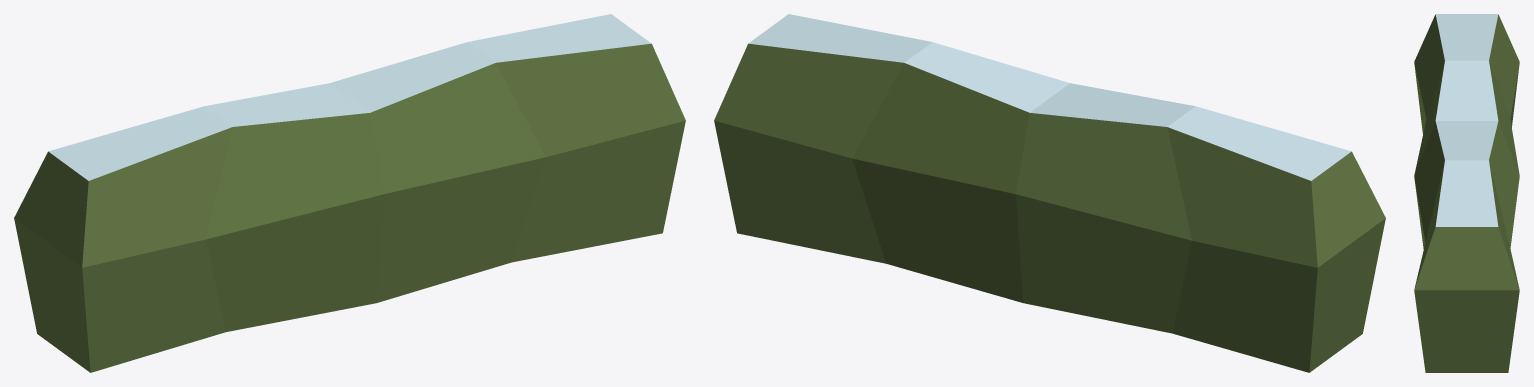
Rendered from SM_Env_Generic_Bush_04_Snow.glb.
The picture shows the model from 3 angles, left to right: view 1: azimuth 30°, elevation 25°; view 2: azimuth 150°, elevation 25°; view 3: azimuth 270°, elevation 25°; orthographic projection. The views are drawn at different scales.
Parts seen in each view (by area): view 1: SM_Env_Generic_Bush_04_Snow; view 2: SM_Env_Generic_Bush_04_Snow; view 3: SM_Env_Generic_Bush_04_Snow.
Boxes of the visible parts, bbox=[...] form: SM_Env_Generic_Bush_04_Snow: bbox=[14, 14, 685, 372]; SM_Env_Generic_Bush_04_Snow: bbox=[714, 14, 1385, 372]; SM_Env_Generic_Bush_04_Snow: bbox=[1414, 14, 1519, 372].
Size of the model in its own units: 0.9626 by 0.3033 by 0.1882.
Materials: 1 (1 with a texture image).
